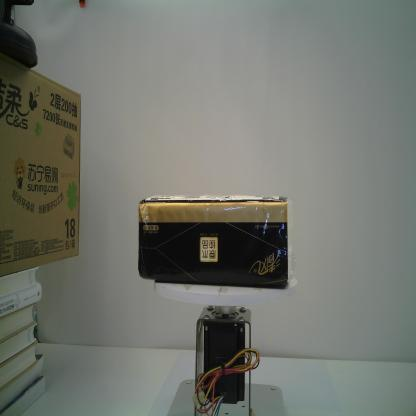Tissue: (136, 192, 296, 289)
